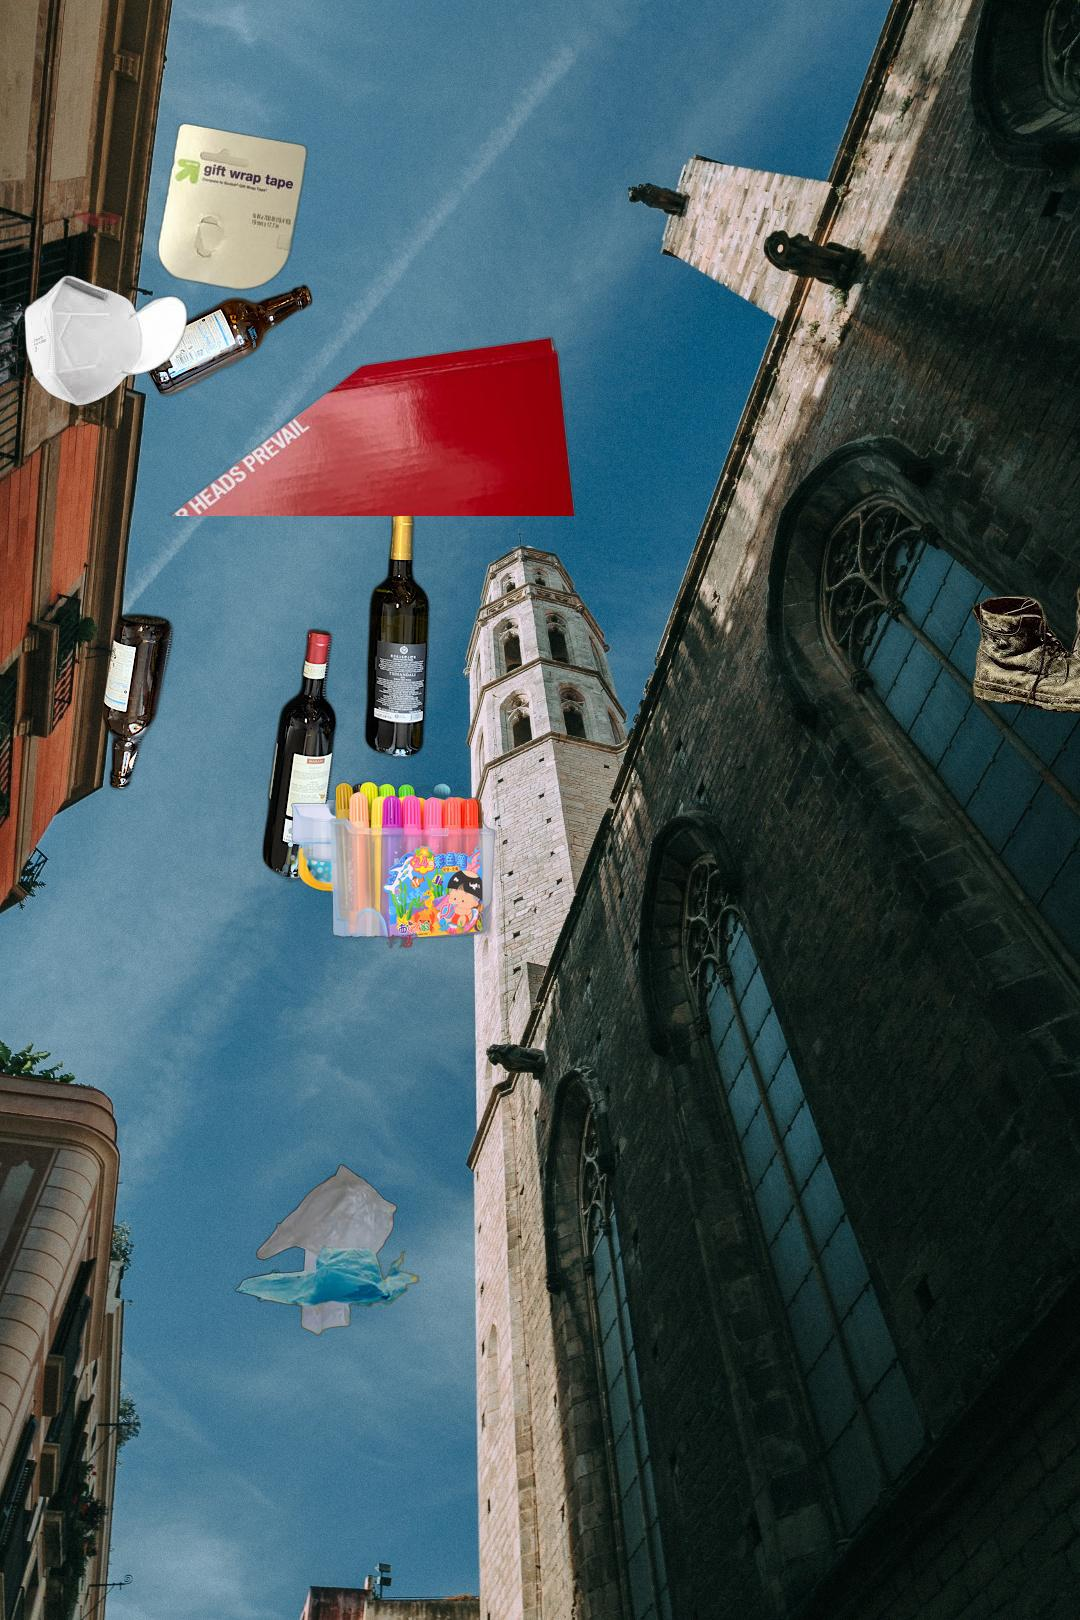glass: (61, 213, 434, 888)
paper: (153, 121, 311, 293)
penholder: (284, 779, 498, 951)
plastic-bag: (231, 1163, 419, 1337)
shoes: (928, 583, 1080, 742)
trash: (22, 272, 190, 409)
trashbox-cardboard: (147, 331, 579, 516), (448, 1593, 1006, 1620)
